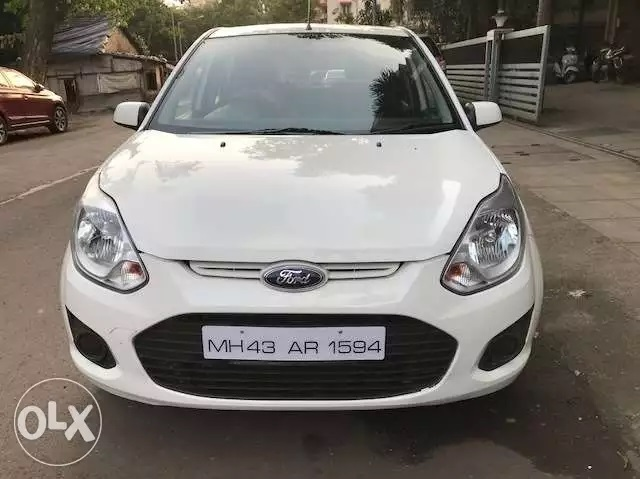licenseplate: (200, 323, 390, 362)
